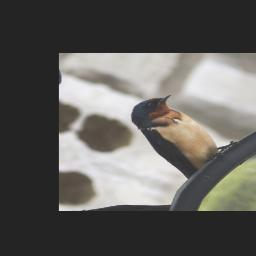Swallow: (102, 86, 256, 188)
